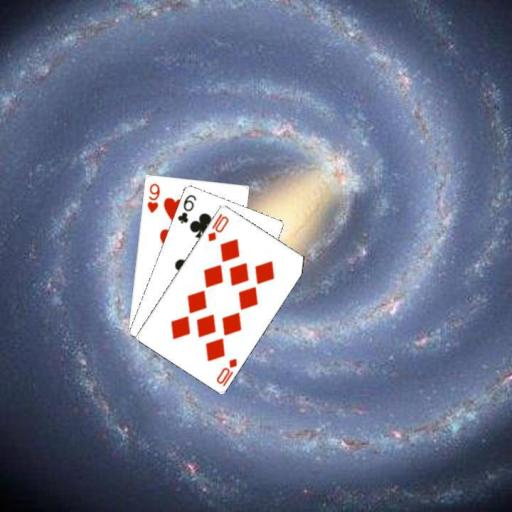10D: (204, 210, 230, 242), (213, 355, 239, 387)
6C: (174, 191, 198, 225)
9H: (144, 180, 161, 214)
